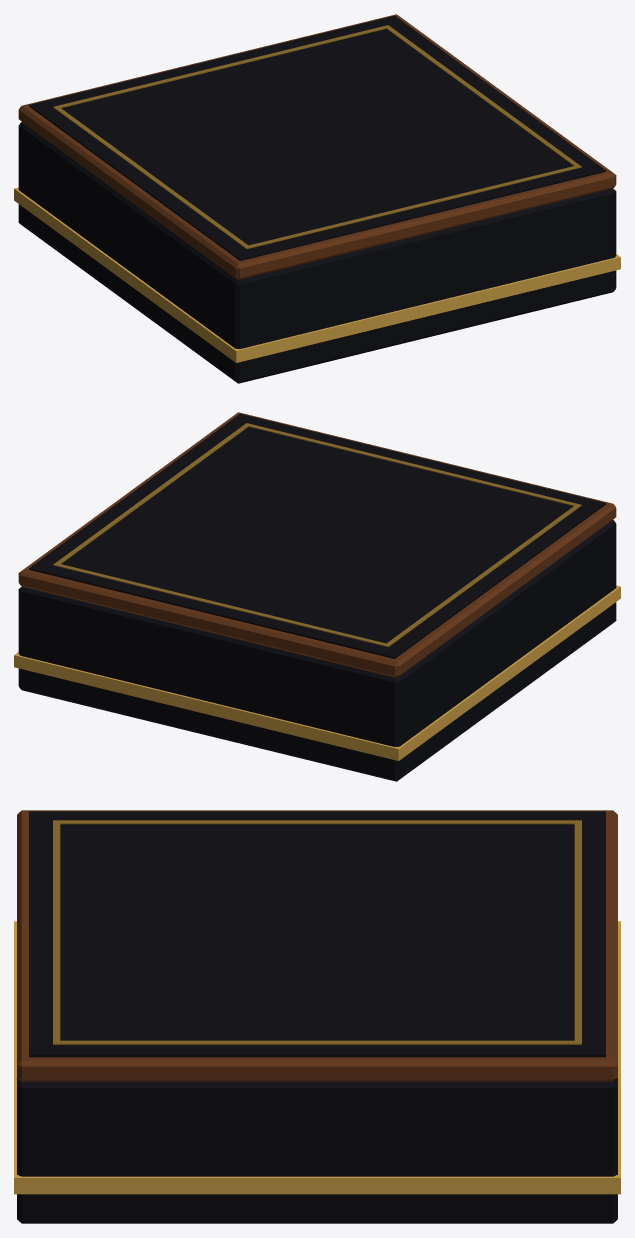
Rendered from stage_platform.glb.
3 renders of one model, top to bottom at view 1: azimuth 30°, elevation 25°; view 2: azimuth 150°, elevation 25°; view 3: azimuth 270°, elevation 25°, orthographic. The views are drawn at different scales.
Parts seen in each view (by area): view 1: stage_platform; view 2: stage_platform; view 3: stage_platform.
Part boxes in pixels (box(x1,y1,x2,y2)): stage_platform: box(14, 14, 620, 383); stage_platform: box(14, 412, 620, 781); stage_platform: box(14, 810, 620, 1223).
Size of the model in its own units: 1.01 by 0.306 by 1.01.
